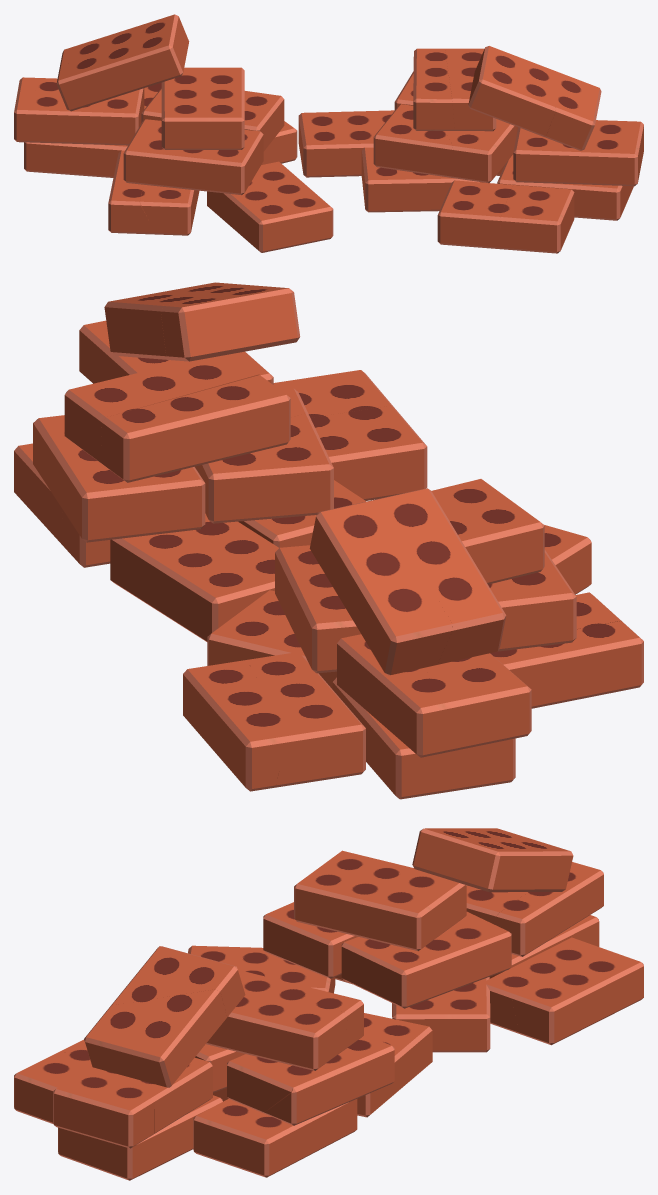
Rendered from brick2.fbx.
The picture shows the model from 3 angles, top to bottom: view 1: azimuth 30°, elevation 25°; view 2: azimuth 150°, elevation 25°; view 3: azimuth 270°, elevation 25°; orthographic projection. The views are drawn at different scales.
Visible parts, largest first — view 1: Brick2.018_cell.001, Brick2.020_cell.001, Brick2.014_cell.001, Brick2.019_cell.001, Brick2.004_cell.001, Brick2.010_cell, Brick2.016_cell, Brick2.005_cell.001, Brick2.005_cell, Brick2.002_cell, Brick2.006_cell.001, Brick2.001_cell (+19 smaller); view 2: Brick2.020_cell, Brick2.009_cell, Brick2.008_cell, Brick2.015_cell.001, Brick2.020_cell.001, Brick2.002_cell, Brick2.015_cell, Brick2.014_cell, Brick2.010_cell, Brick2.017_cell.001, Brick2.005_cell, Brick2.013_cell (+18 smaller); view 3: Brick2.010_cell.001, Brick2.009_cell.001, Brick2.015_cell, Brick2.007_cell.001, Brick2.019_cell, Brick2.004_cell.001, Brick2.012_cell, Brick2.008_cell, Brick2.020_cell, Brick2.019_cell.001, Brick2.014_cell, Brick2.010_cell (+20 smaller).
Boxes of the visible parts, bbox=[...] form: Brick2.018_cell.001: bbox=[123, 119, 263, 195]; Brick2.020_cell.001: bbox=[56, 31, 186, 111]; Brick2.014_cell.001: bbox=[14, 90, 142, 145]; Brick2.019_cell.001: bbox=[161, 88, 244, 149]; Brick2.004_cell.001: bbox=[548, 120, 643, 186]; Brick2.010_cell: bbox=[468, 46, 555, 136]; Brick2.016_cell: bbox=[246, 176, 333, 252]; Brick2.005_cell.001: bbox=[500, 185, 574, 253]; Brick2.005_cell: bbox=[437, 180, 512, 249]; Brick2.002_cell: bbox=[373, 104, 454, 178]; Brick2.006_cell.001: bbox=[298, 111, 361, 177]; Brick2.001_cell: bbox=[361, 147, 489, 212]; Brick2.020_cell: bbox=[309, 499, 452, 675]; Brick2.009_cell: bbox=[100, 375, 290, 482]; Brick2.008_cell: bbox=[33, 418, 205, 542]; Brick2.015_cell.001: bbox=[247, 653, 365, 787]; Brick2.020_cell.001: bbox=[376, 488, 506, 664]; Brick2.002_cell: bbox=[198, 413, 333, 523]; Brick2.015_cell: bbox=[183, 660, 286, 791]; Brick2.014_cell: bbox=[337, 634, 480, 757]; Brick2.010_cell: bbox=[161, 284, 300, 361]; Brick2.017_cell.001: bbox=[490, 621, 643, 708]; Brick2.005_cell: bbox=[310, 405, 427, 500]; Brick2.013_cell: bbox=[332, 677, 515, 799]; Brick2.010_cell.001: bbox=[84, 989, 226, 1087]; Brick2.009_cell.001: bbox=[206, 991, 347, 1070]; Brick2.015_cell: bbox=[512, 954, 643, 1045]; Brick2.007_cell.001: bbox=[193, 1100, 335, 1177]; Brick2.019_cell: bbox=[359, 866, 466, 951]; Brick2.004_cell.001: bbox=[53, 1067, 154, 1148]; Brick2.012_cell: bbox=[341, 937, 460, 1008]; Brick2.008_cell: bbox=[261, 1034, 394, 1125]; Brick2.020_cell: bbox=[454, 839, 573, 892]; Brick2.019_cell.001: bbox=[294, 850, 406, 936]; Brick2.014_cell: bbox=[494, 862, 603, 956]; Brick2.010_cell: bbox=[109, 946, 245, 1017].
Bounding box in the file's own units: 1.94 × 1.93 × 0.5396.
